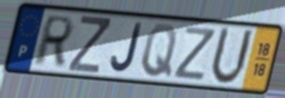J: (109, 21, 144, 75)
Q: (139, 22, 179, 80)
R: (30, 14, 77, 67)
U: (207, 24, 255, 88)
Z: (65, 14, 113, 76), (171, 24, 219, 82)
